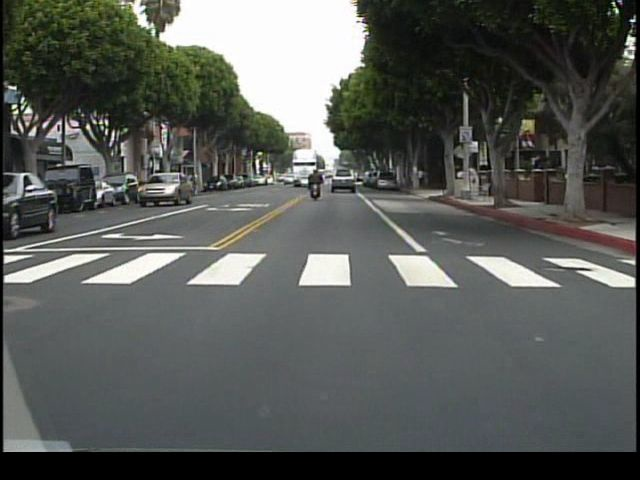person: (305, 166, 323, 205)
